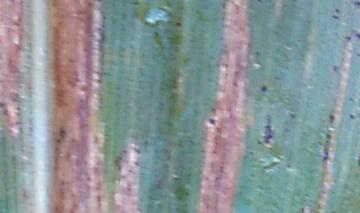tarspot: (260, 113, 273, 149), (112, 155, 124, 171), (58, 125, 66, 139), (130, 146, 141, 155), (207, 116, 215, 127), (352, 29, 360, 40), (327, 113, 335, 124), (331, 61, 339, 72), (322, 150, 330, 161), (259, 84, 268, 93), (345, 95, 354, 104), (330, 14, 341, 21), (170, 175, 181, 181), (287, 111, 295, 119), (353, 1, 360, 9), (133, 159, 140, 167), (54, 137, 61, 145), (324, 132, 333, 138), (299, 204, 305, 213), (345, 34, 352, 41), (334, 7, 340, 14), (121, 148, 127, 155), (176, 20, 181, 28), (346, 113, 352, 119), (128, 167, 133, 174)
